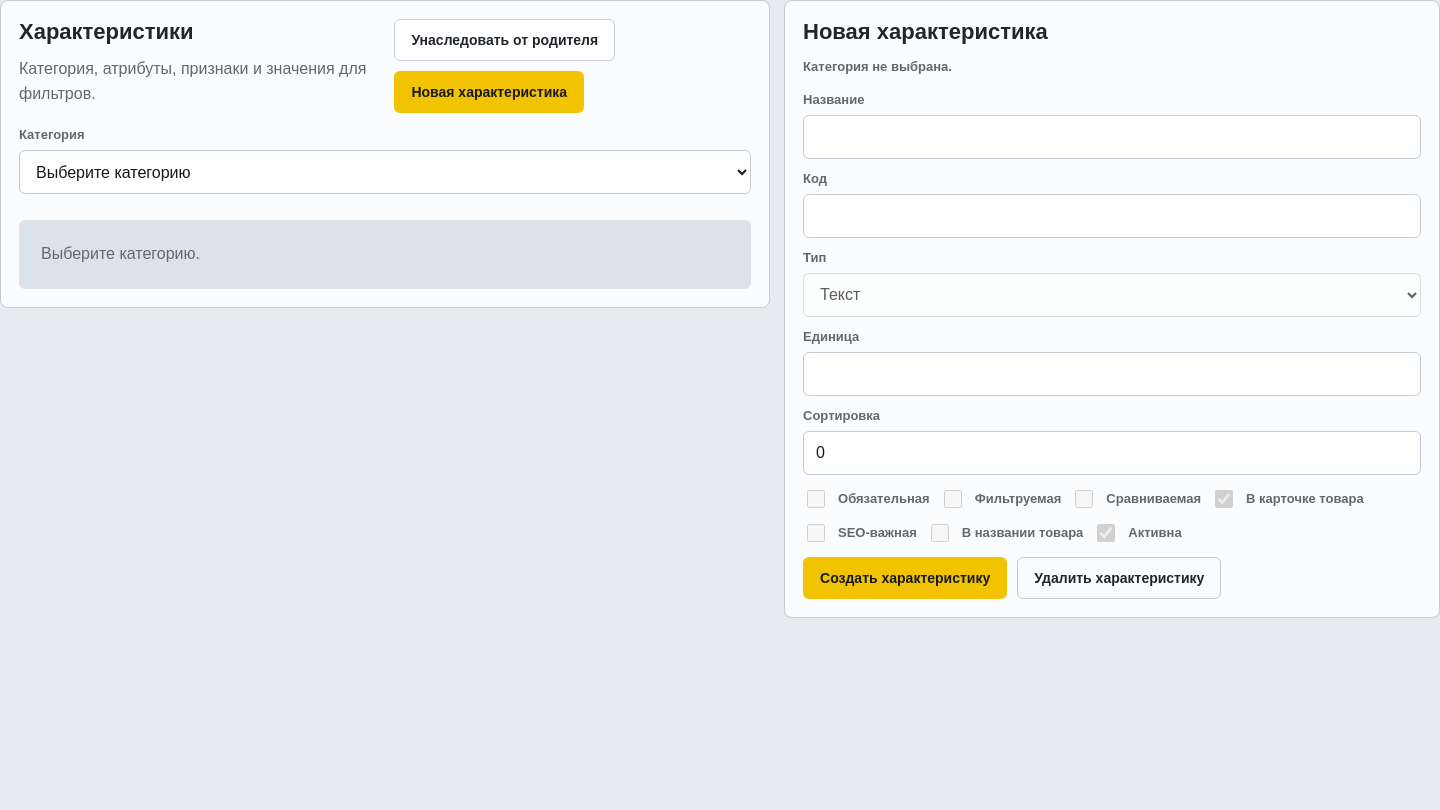
Test: AdminAttributeManager › shows inherit-from-parent result
Select "Кабели" in the dropdown labelled "Категория" at (385, 172), box [19,150,751,194]
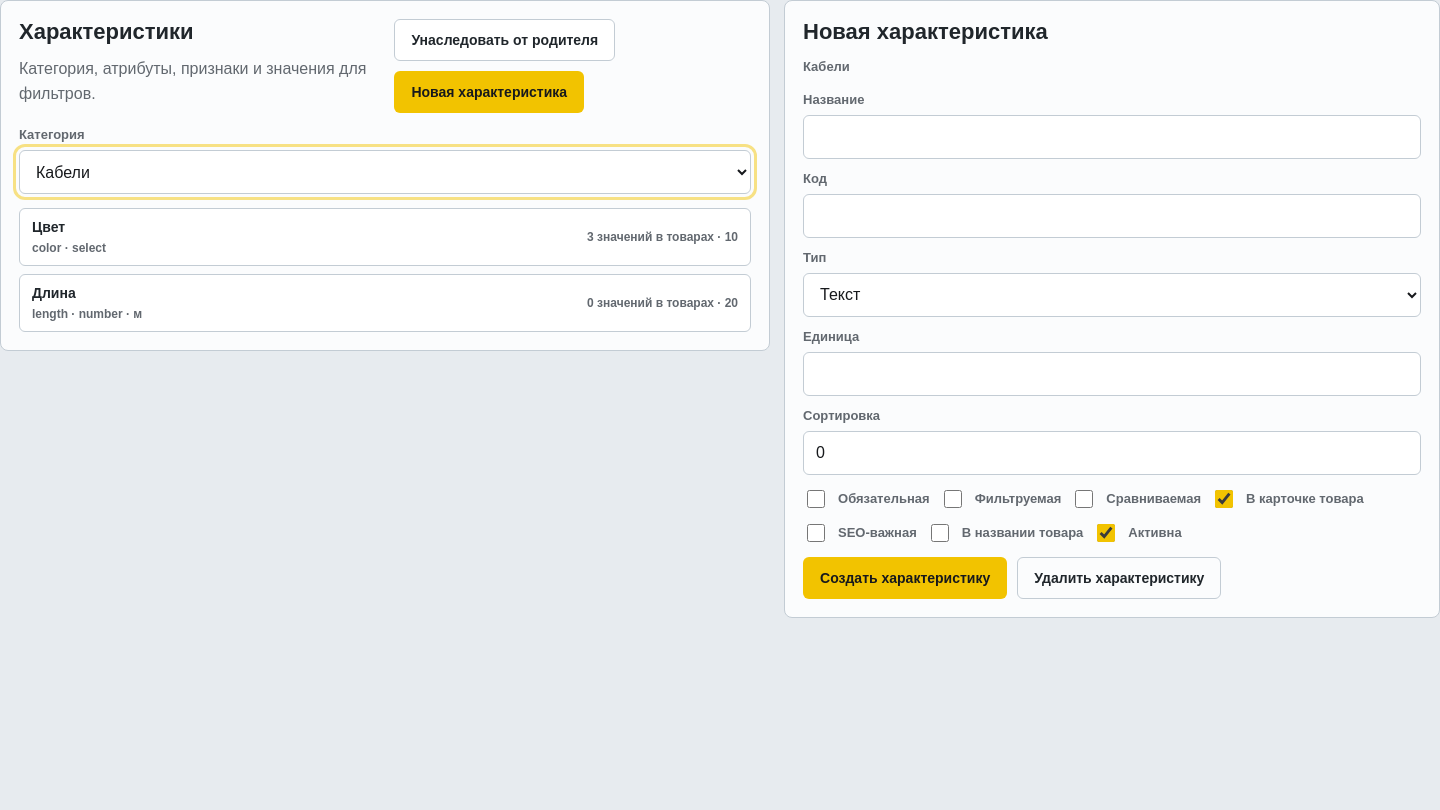
Now the button "Цвет color · select 3 значений в товарах · 10" is shown, box [19,208,751,266]
Click the button "Унаследовать от родителя" at (505, 40), box [394,19,615,61]
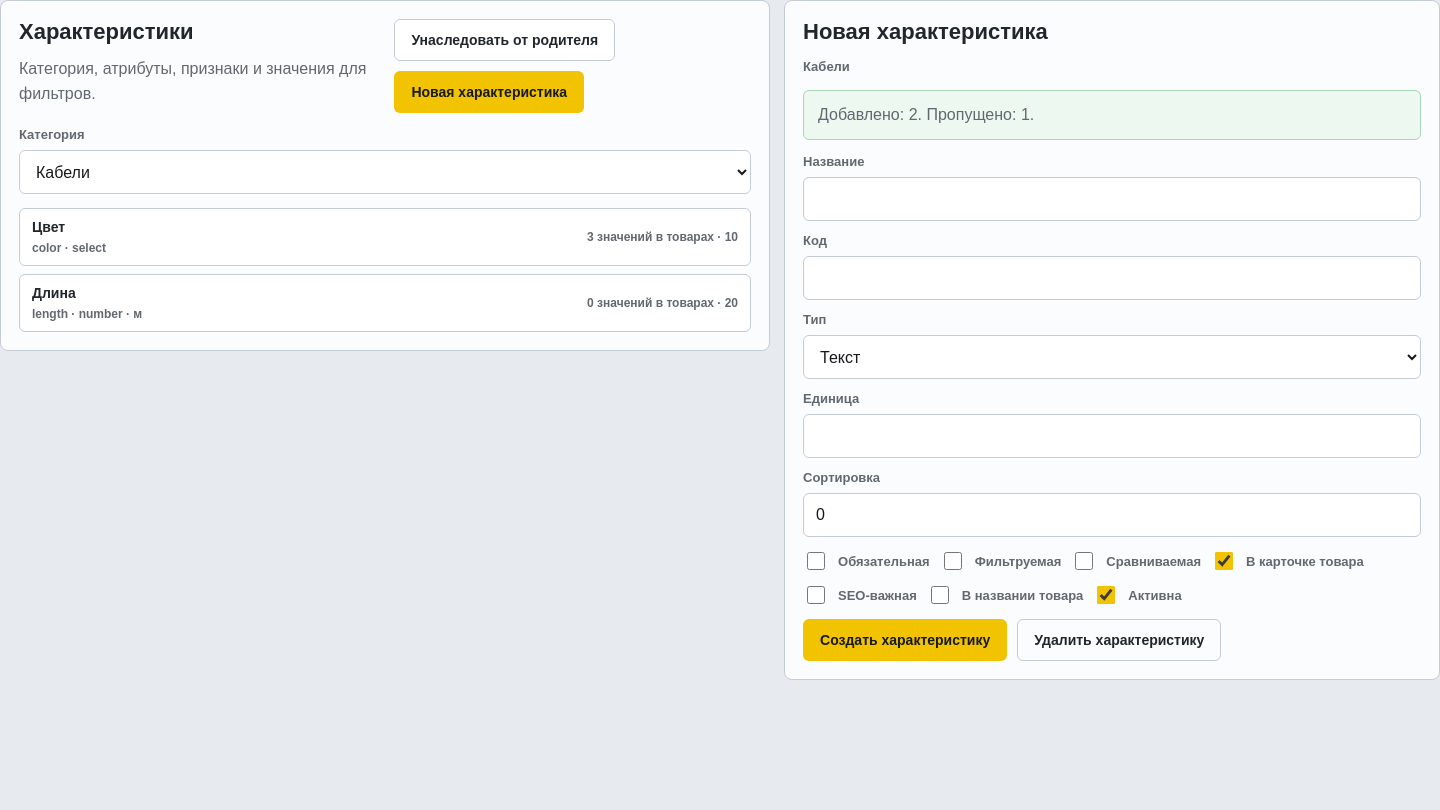
Now the text "Добавлено: 2. Пропущено: 1." is shown, box [803,90,1421,140]
